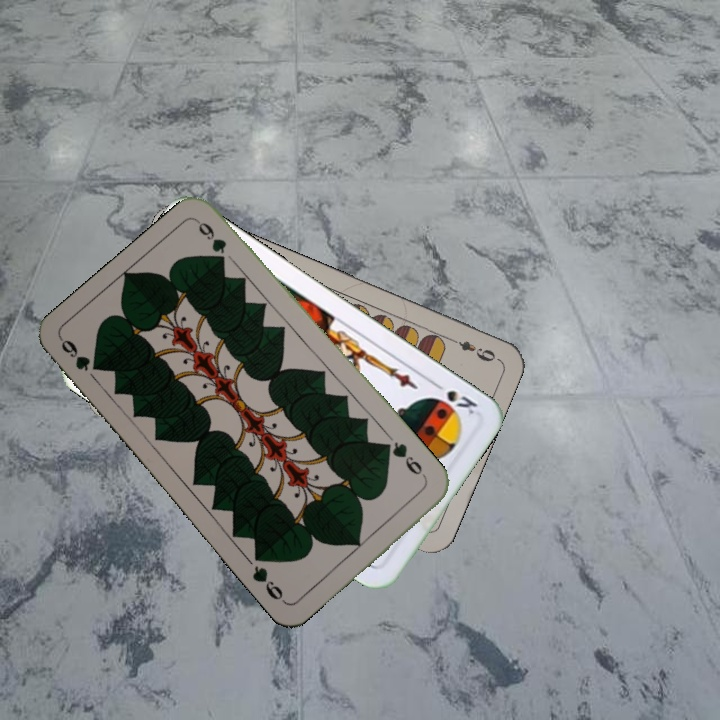E9: (444, 333, 501, 365)
G9: (382, 437, 430, 483), (56, 335, 104, 374)
SK: (428, 377, 481, 418)
